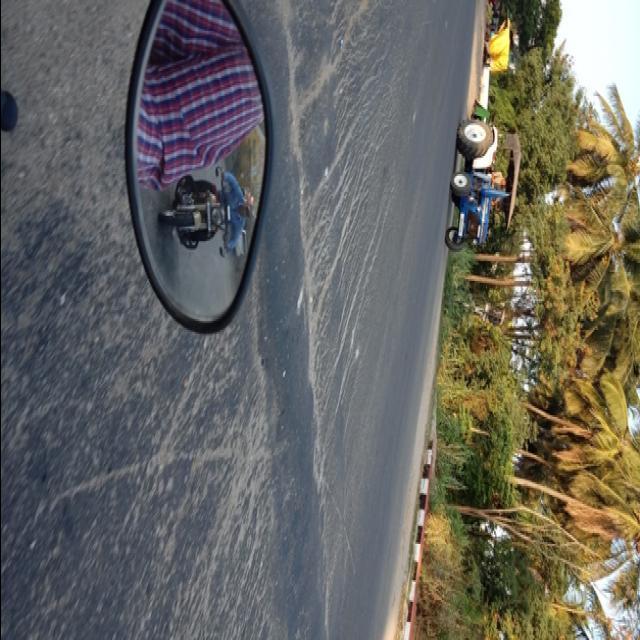speedbreaker: (260, 213, 334, 640)
